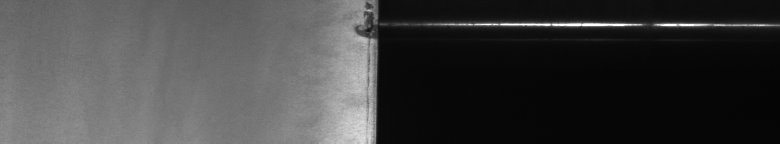hb: (343, 11, 364, 110)
